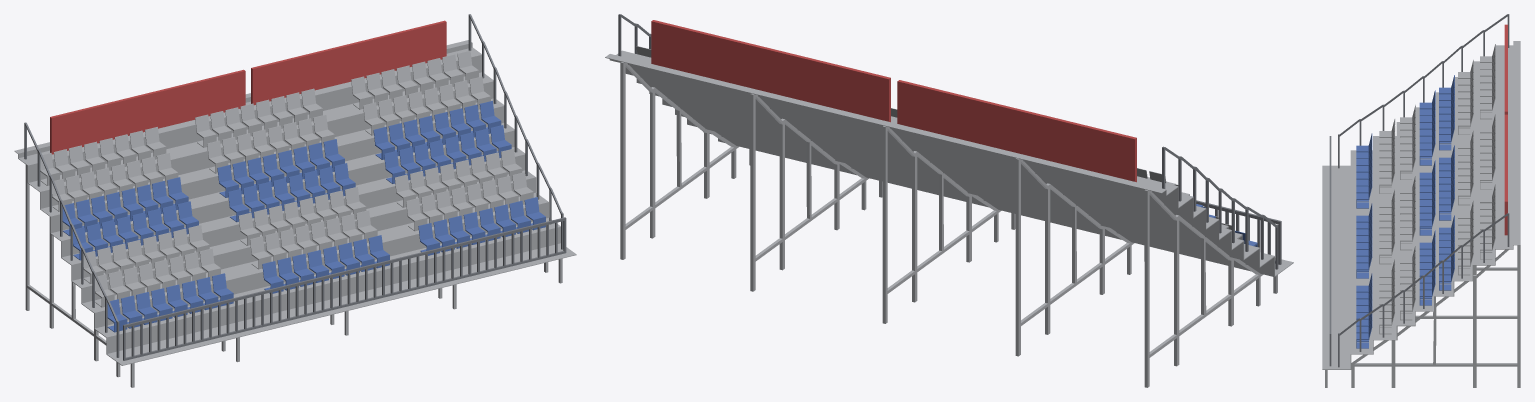
File: stand.glb
3 views of the same model, side by side, from view 1: azimuth 30°, elevation 25°; view 2: azimuth 150°, elevation 25°; view 3: azimuth 270°, elevation 25° (orthographic). The views are drawn at different scales.
Parts seen in each view (by area): view 1: prop; view 2: prop; view 3: prop.
Part boxes in pixels (bbox=[...]): prop: bbox=[14, 14, 576, 387]; prop: bbox=[605, 14, 1293, 387]; prop: bbox=[1322, 14, 1520, 387].
Size of the model in its own units: 68.73 by 28.01 by 28.3.
